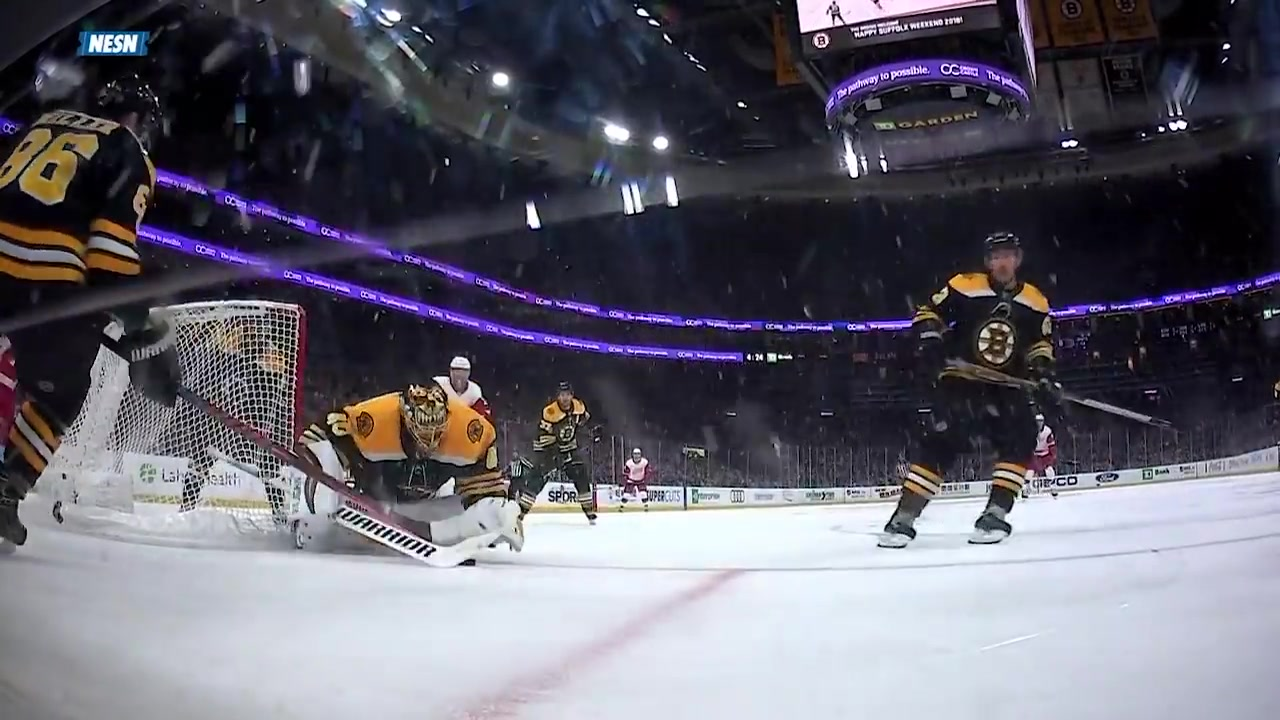Geico: (1031, 468, 1081, 496)
